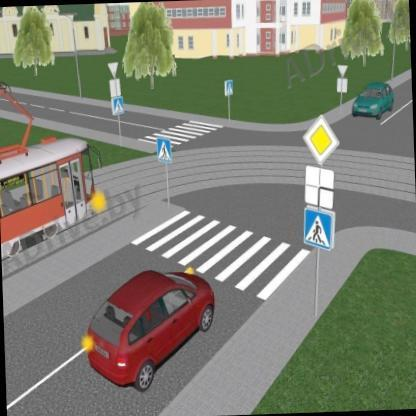road_sign: (304, 115, 338, 164), (304, 206, 334, 250), (306, 166, 334, 209), (157, 136, 172, 162), (111, 96, 123, 115), (224, 80, 234, 99)
